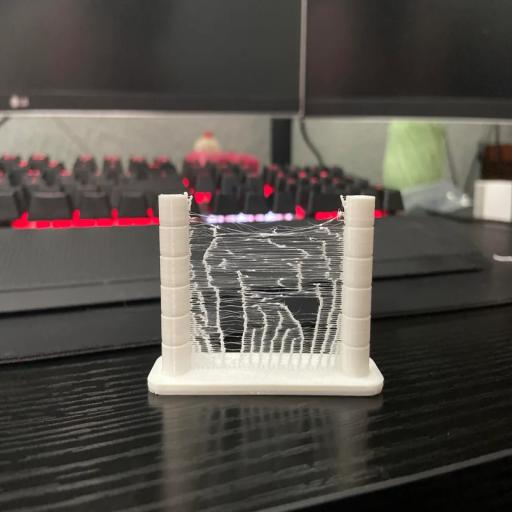stringing: (189, 208, 342, 369)
